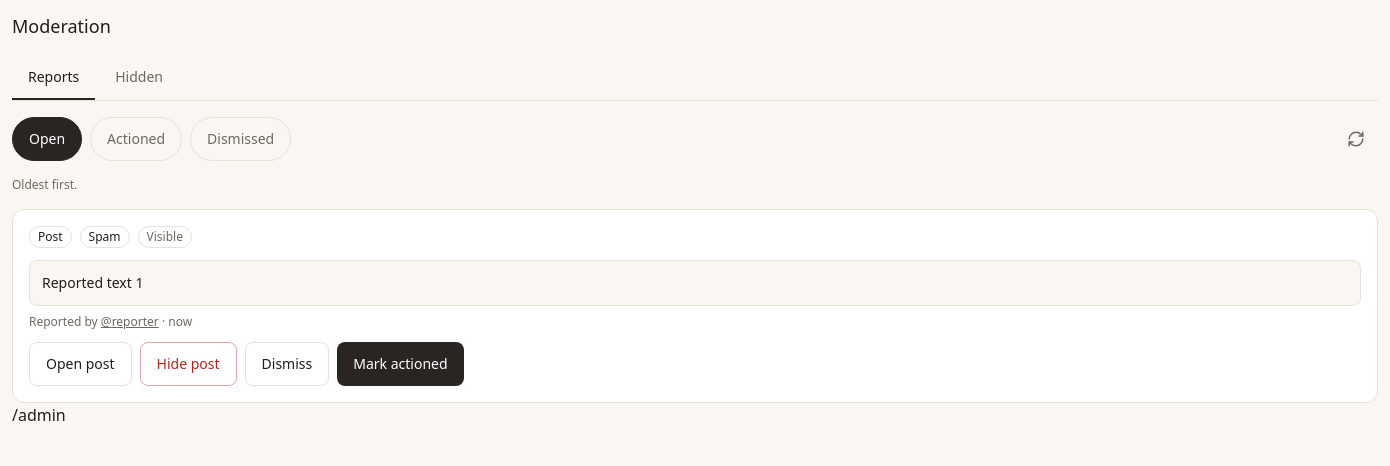
Scenario: resolving › says so when somebody else already resolved it
Click the button "Mark actioned" at (400, 364), box [337,342,464,386]
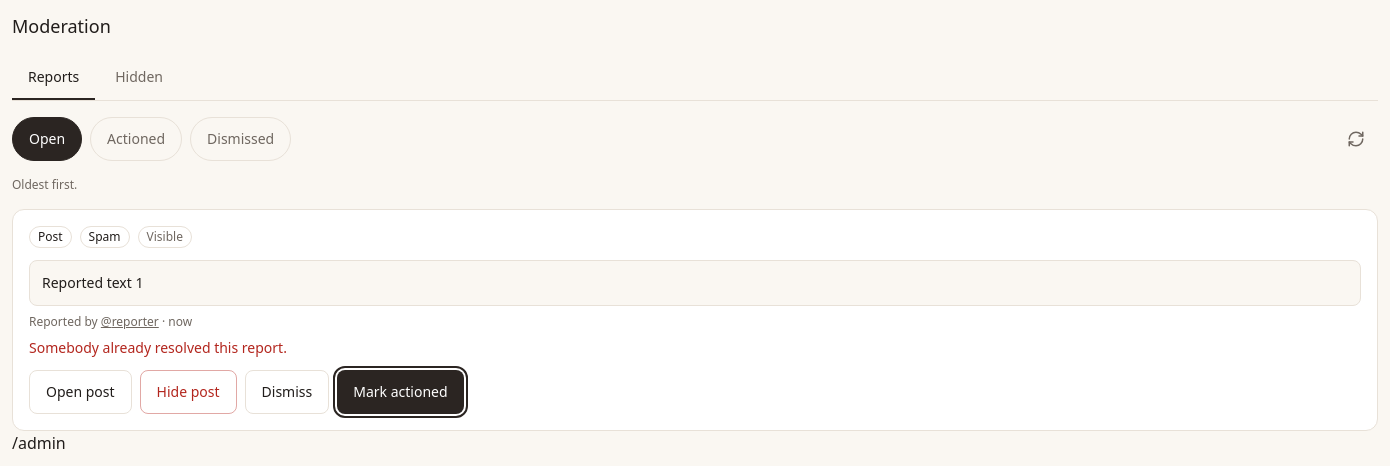
Now the message reads "Somebody already resolved this report.", box [29,338,287,357]
